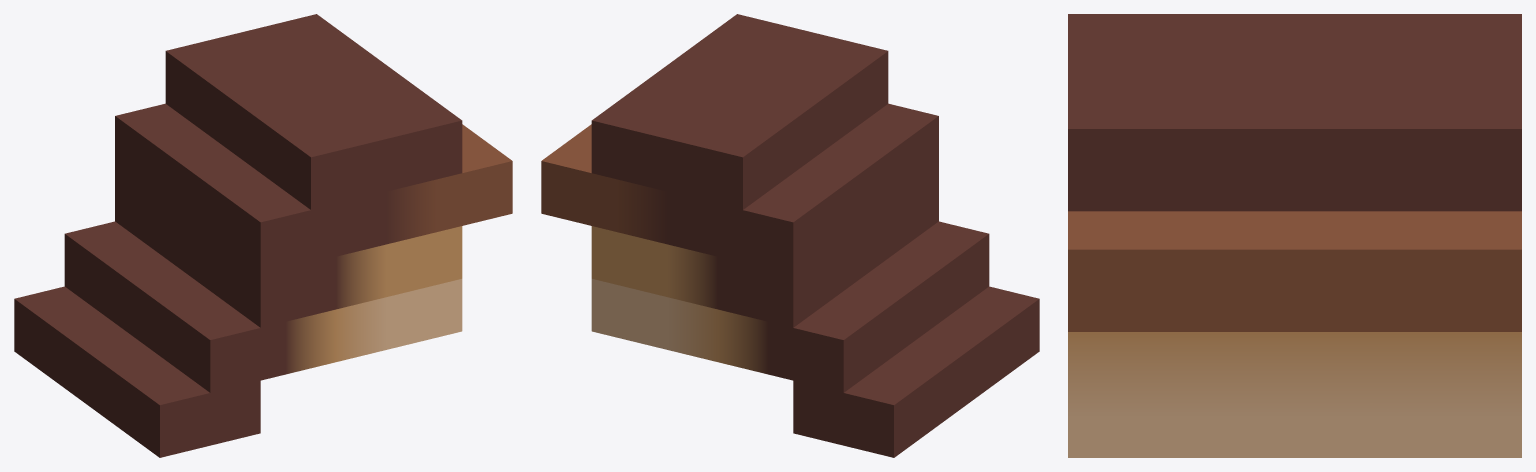
Rendered from player_0_head.fbx.
3 renders of one model, left to right at view 1: azimuth 30°, elevation 25°; view 2: azimuth 150°, elevation 25°; view 3: azimuth 270°, elevation 25°, orthographic. The views are drawn at different scales.
Parts seen in each view (by area): view 1: player_0_head; view 2: player_0_head; view 3: player_0_head.
Part boxes in pixels (x1,y1,x2,y2): player_0_head: (14,14,512,457); player_0_head: (541,14,1039,457); player_0_head: (1068,14,1521,457).
Size of the model in its own units: 7 by 5 by 5.
